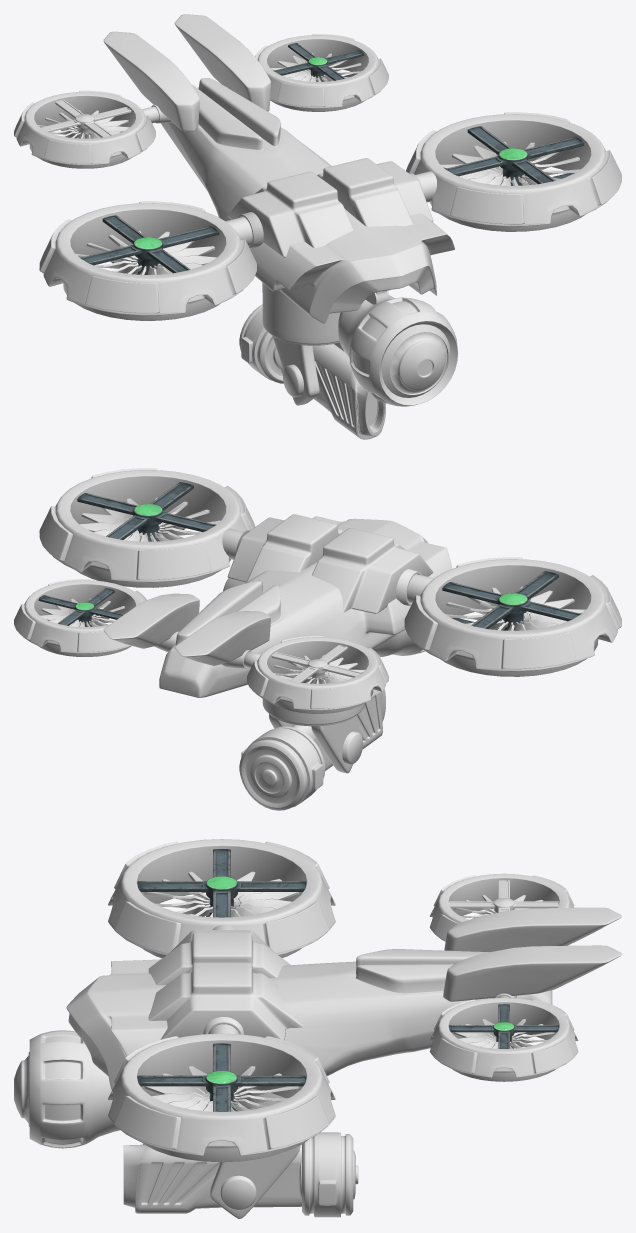
The model's file is robot_1.fbx.
3 renders of one model, top to bottom at view 1: azimuth 30°, elevation 25°; view 2: azimuth 150°, elevation 25°; view 3: azimuth 270°, elevation 25°, orthographic. The views are drawn at different scales.
Parts seen in each view (by area): view 1: Cylinder.003, Cylinder.005, Cylinder.012, Sphere.008, Cylinder.015, Cylinder.019, Cube.001, Cube.004, Cube.003, Cube.006, Cylinder, Cylinder.013 (+10 smaller); view 2: Cylinder.005, Cylinder.012, Cylinder.003, Cylinder.015, Cube.001, Cylinder.004, Cylinder.019, Cube.004, Cube.003, Cube.006, Cylinder.024, Cylinder.013 (+11 smaller); view 3: Cylinder.003, Cylinder.012, Cylinder.005, Sphere.008, Cylinder.019, Cube.004, Cube.006, Cylinder, Cube.003, Cylinder.004, Cube.001, Cylinder.015 (+9 smaller).
Part boxes in pixels (<box>): Cylinder.003: <box>161,78,454,323</box>; Cylinder.005: <box>39,201,256,320</box>; Cylinder.012: <box>406,112,621,231</box>; Sphere.008: <box>338,295,458,406</box>; Cylinder.015: <box>14,90,155,168</box>; Cylinder.019: <box>255,34,388,111</box>; Cube.001: <box>227,171,353,257</box>; Cube.004: <box>317,158,433,226</box>; Cube.003: <box>103,31,199,131</box>; Cube.006: <box>174,14,270,111</box>; Cylinder: <box>281,344,385,439</box>; Cylinder.013: <box>445,126,583,185</box>; Cylinder.005: <box>404,557,621,676</box>; Cylinder.012: <box>39,468,255,587</box>; Cylinder.003: <box>159,516,452,697</box>; Cylinder.015: <box>247,636,388,713</box>; Cube.001: <box>312,528,433,613</box>; Cylinder.004: <box>239,726,325,810</box>; Cylinder.019: <box>14,579,146,656</box>; Cube.004: <box>227,514,343,582</box>; Cube.003: <box>174,611,270,665</box>; Cube.006: <box>103,593,199,648</box>; Cylinder.024: <box>442,571,580,630</box>; Cylinder.013: <box>77,482,216,541</box>; Cylinder.003: <box>66,949,552,1089</box>; Cylinder.012: <box>108,1033,335,1162</box>; Cylinder.005: <box>108,839,335,958</box>; Sphere.008: <box>14,1030,120,1148</box>; Cylinder.019: <box>429,997,578,1081</box>; Cube.004: <box>148,962,302,1040</box>; Cube.006: <box>443,945,621,1001</box>; Cylinder: <box>123,1144,301,1213</box>; Cube.003: <box>444,907,621,951</box>; Cylinder.004: <box>299,1132,358,1217</box>; Cube.001: <box>148,930,291,985</box>; Cylinder.015: <box>429,873,574,941</box>.
Bounding box in the file's own units: 2395 × 1072 × 2117.
34 materials, 3 textured.
